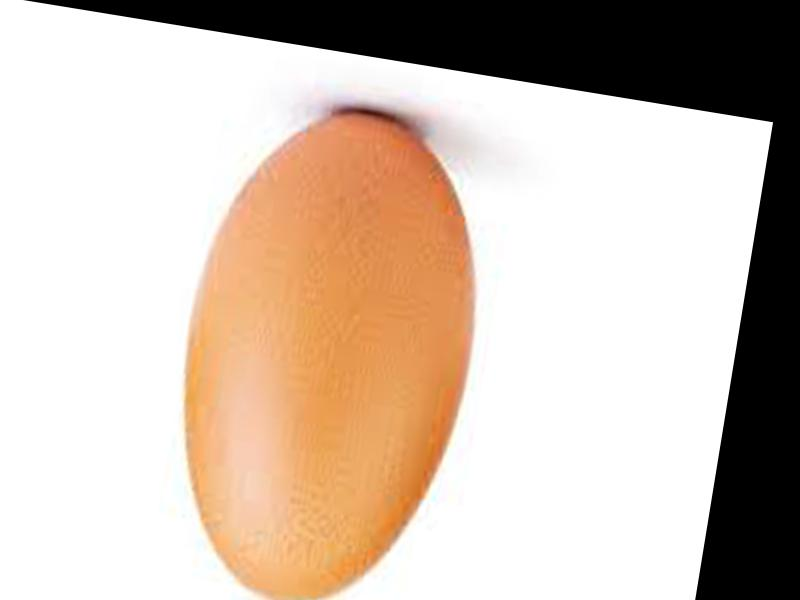Eggs: (152, 91, 503, 600)
